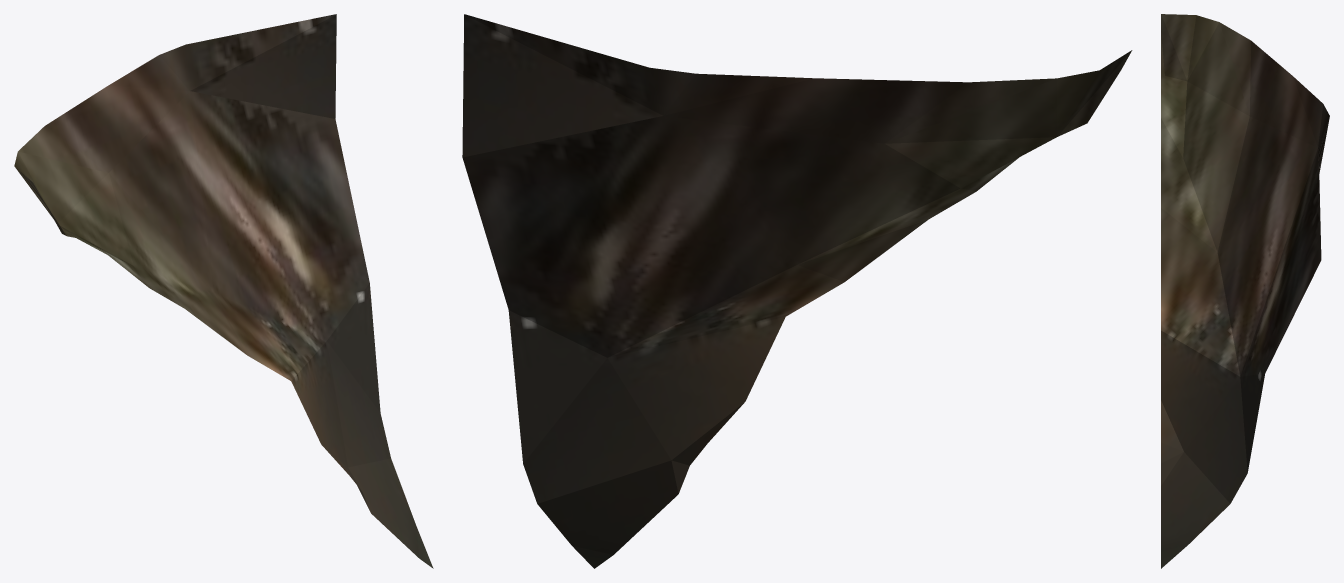
3 views of the same model, side by side, from view 1: azimuth 30°, elevation 25°; view 2: azimuth 150°, elevation 25°; view 3: azimuth 270°, elevation 25° (orthographic). The views are drawn at different scales.
Bounding box in the file's own units: 1.27 × 1.47 × 0.5675.
1 material, 1 textured.
